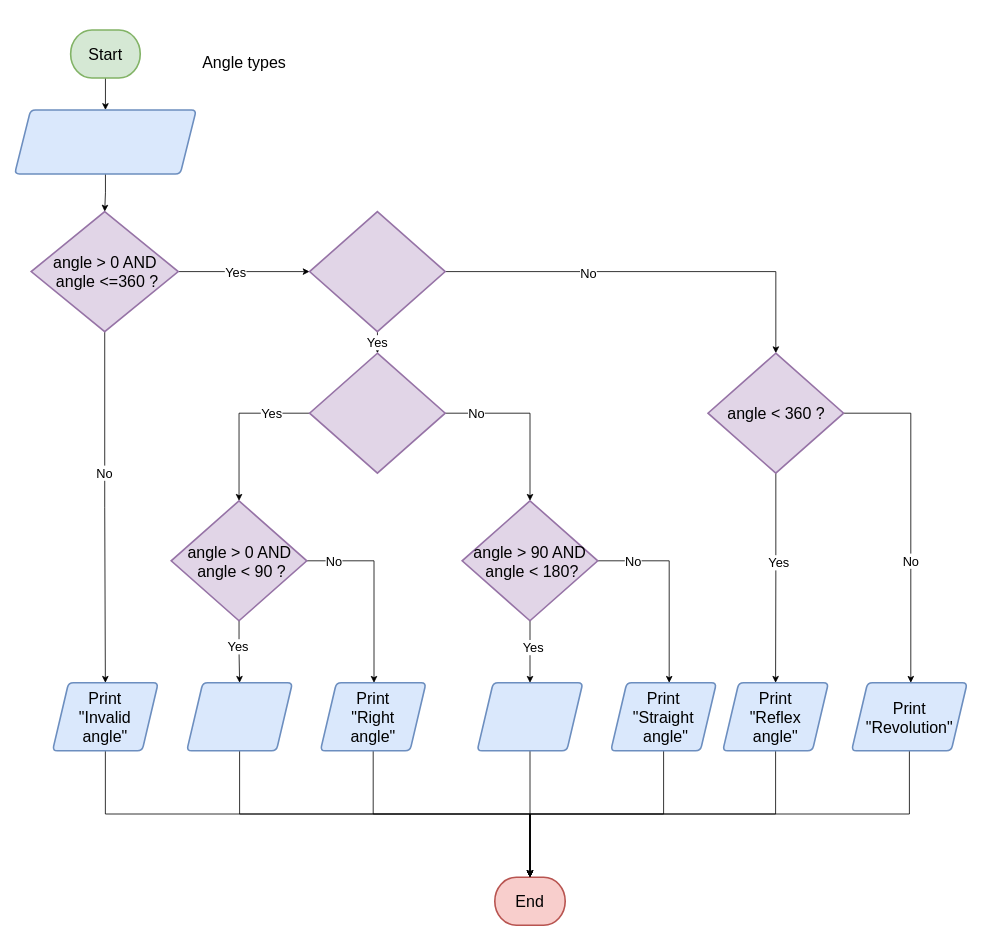
This 982x939 diagram has some shape labels left out. The shapes that lost their labels are listed below. From the top down, each one's centre as x and y in pixels, then its label:
point 105,141: Input angle
point 377,271: angle <= 180 ?
point 377,413: angle <= 90 ?
point 239,716: Print "Acute angle"
point 529,716: Print "Obtuse angle"
